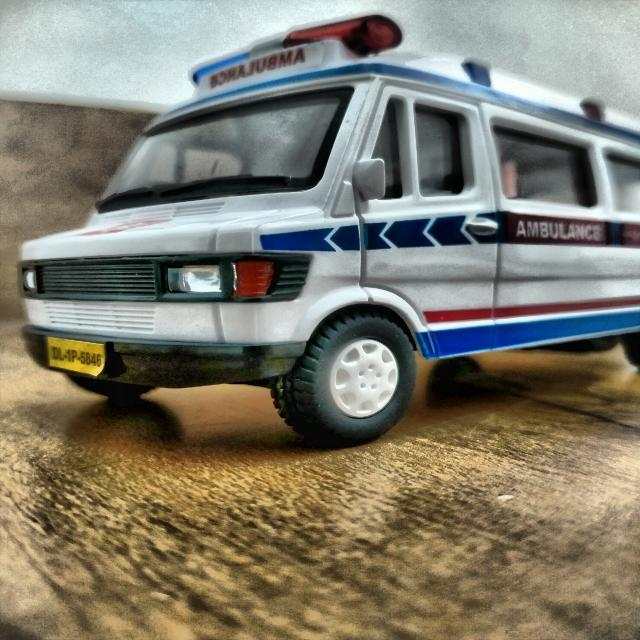Ambulance: (19, 10, 640, 486)
